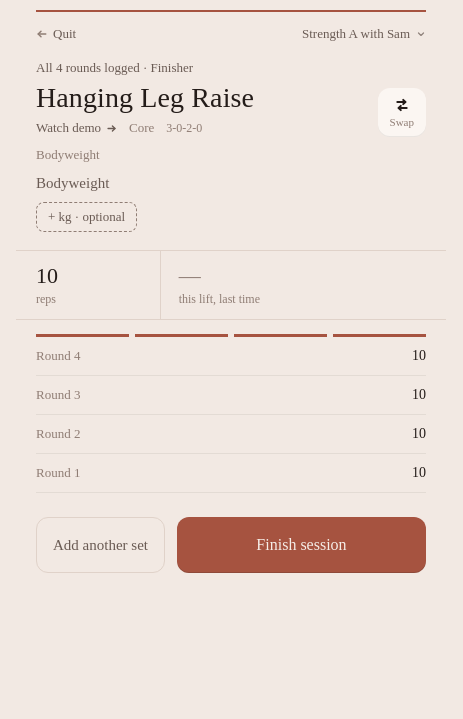
Test: Review › Back returns to the session with every set kept
What coordinates should you click on to do the following:
click the button "Finish session"
I would click on:
 (302, 545)
Its box is [177,517,426,573].
(page scrolled)
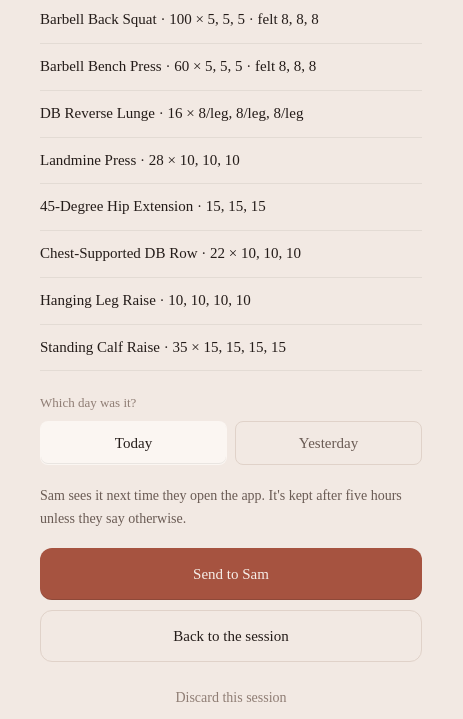
What coordinates should you click on to do the following:
click the button "Back to the session"
I would click on:
 (231, 636)
Its box is [40,610,422,662].
(page scrolled)
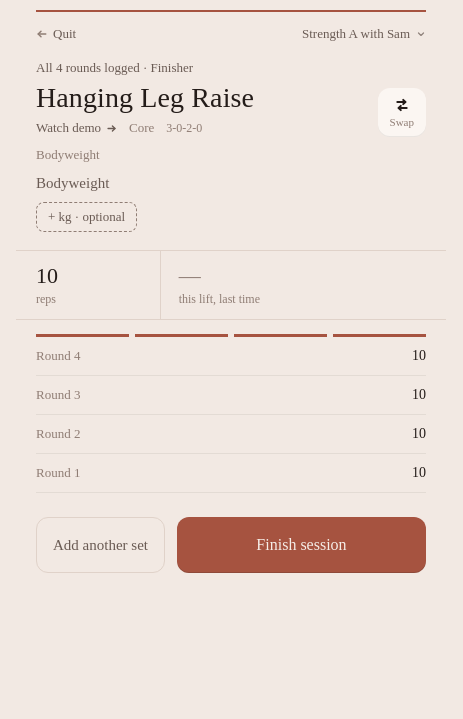
Check: the button "Finish session" is shown, box [177,517,426,573]
